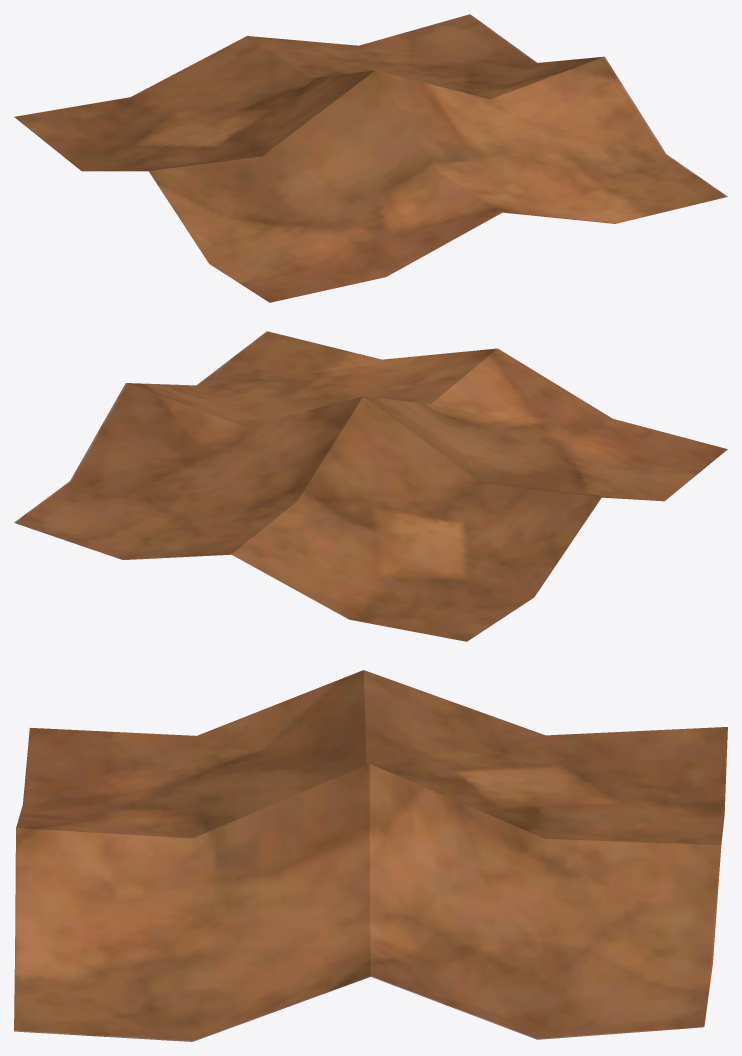
Rendered from thm_tato_jawa_tent_large_l3.fbx.
3 views of the same model, one above another, from view 1: azimuth 30°, elevation 25°; view 2: azimuth 150°, elevation 25°; view 3: azimuth 270°, elevation 25° (orthographic). The views are drawn at different scales.
Parts seen in each view (by area): view 1: mesh_node; view 2: mesh_node; view 3: mesh_node.
Part boxes in pixels (left/top/right/bottom): mesh_node: left=14, top=14, right=727, bottom=302; mesh_node: left=14, top=331, right=727, bottom=641; mesh_node: left=14, top=670, right=727, bottom=1041.
Size of the model in its own units: 10.83 by 2.1 by 10.58.
Materials: 1 (1 with a texture image).
